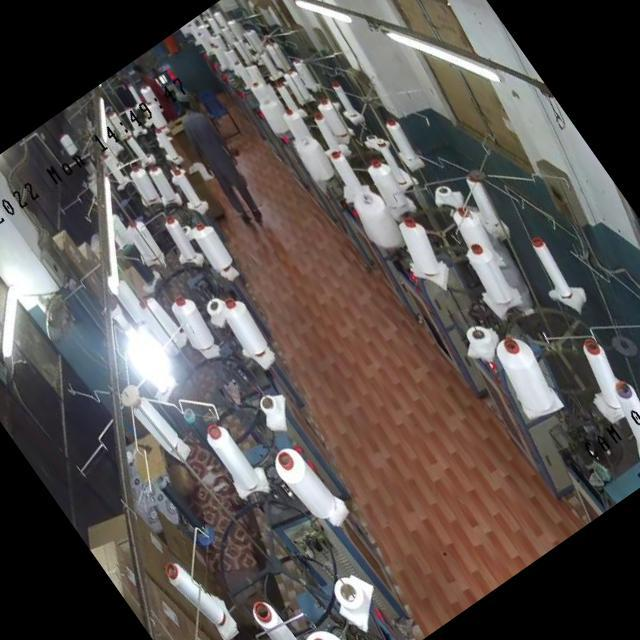person: (166, 96, 266, 220)
